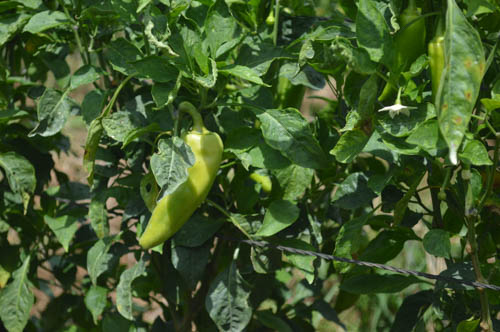ChiliPepper: (137, 129, 222, 255), (379, 12, 424, 107), (425, 36, 445, 106)
